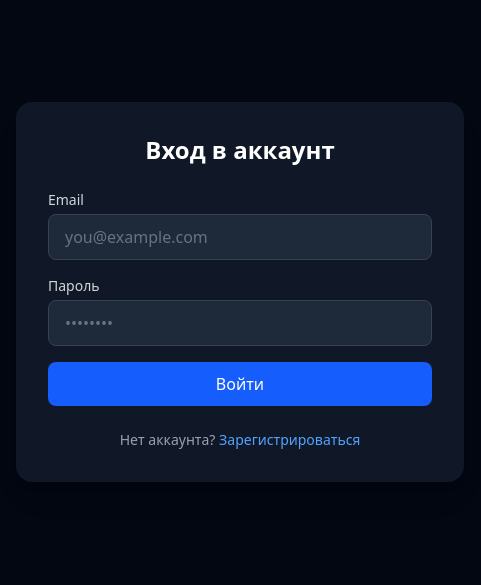
Test: AuthPage › switches back to login form
The width and height of the screenshot is (481, 585).
Click the button "Зарегистрироваться". click: click(290, 440)
box: [219, 430, 360, 450]
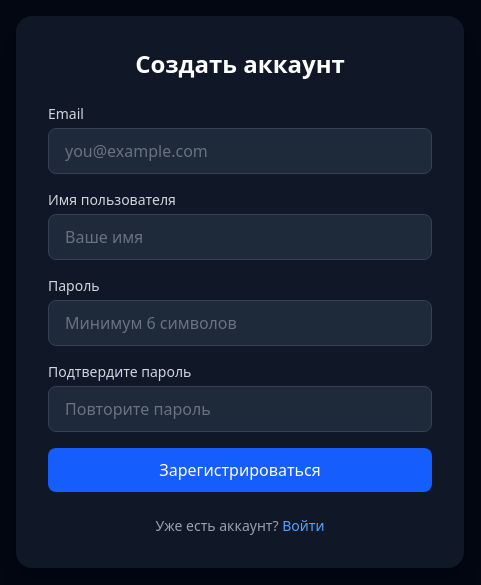
expect the heading "Создать аккаунт" is shown: met, box [135, 47, 345, 80]
Click the button "Войти". click: click(303, 526)
box: [282, 516, 324, 536]
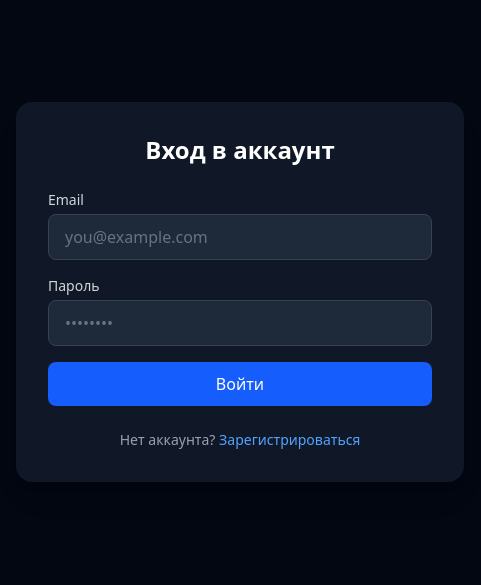
expect the heading "Вход в аккаунт" is shown: met, box [145, 133, 335, 166]
